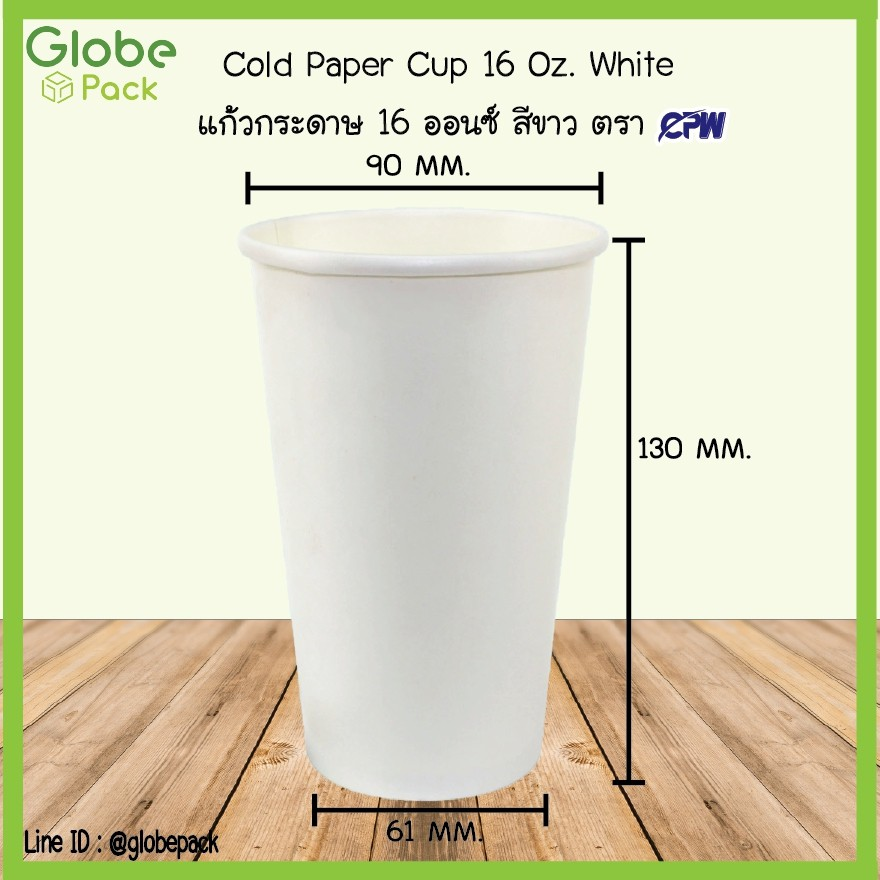PaperCup: (236, 202, 613, 801)
